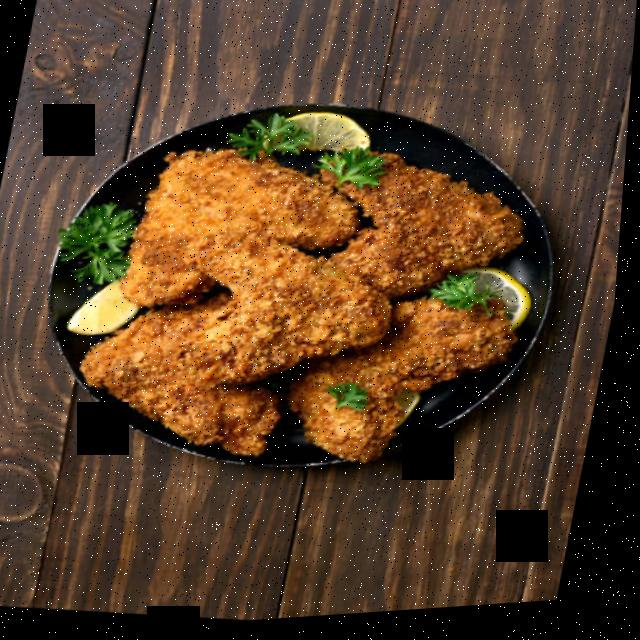Frango: (47, 109, 554, 502)
